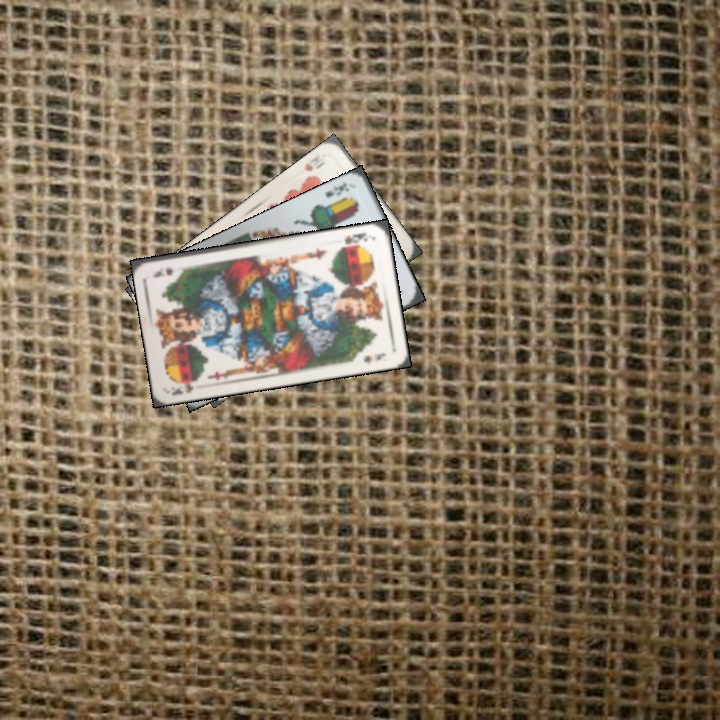EK: (321, 178, 351, 200)
H10: (300, 152, 328, 174)
SK: (167, 376, 200, 398), (340, 229, 370, 247)
